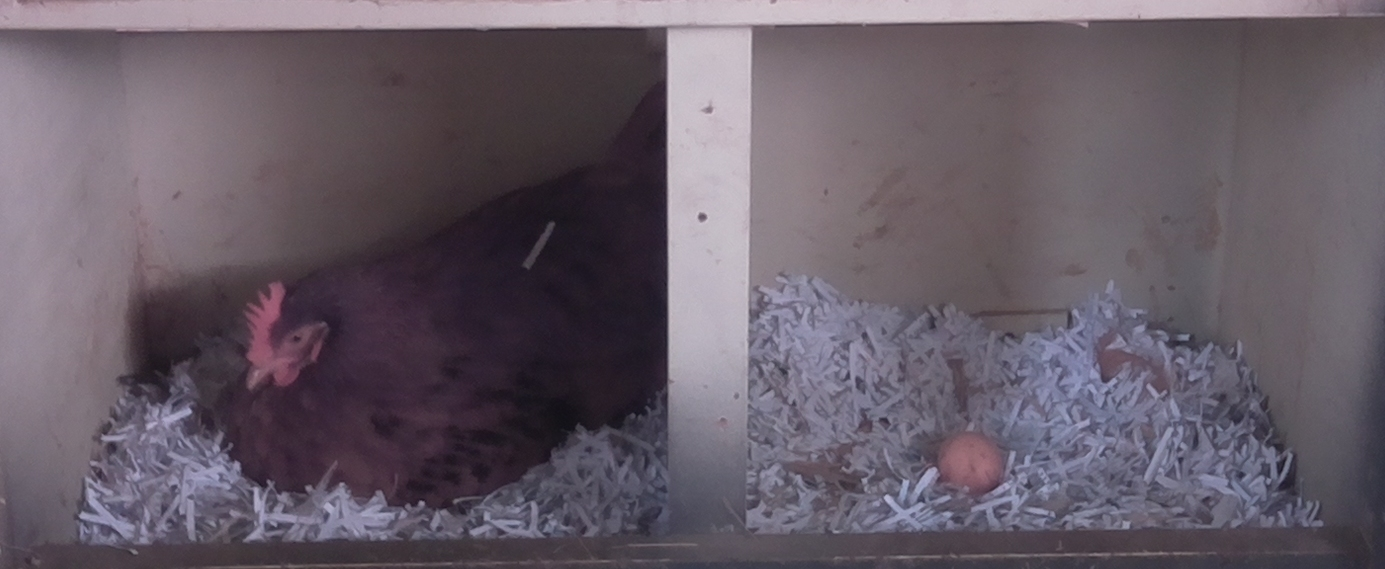Chicken: (232, 81, 665, 498)
Egg: (935, 434, 1010, 498)
